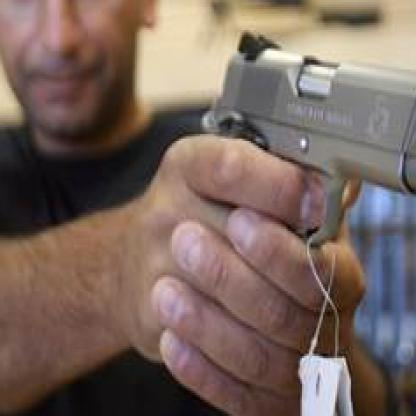gun: (192, 28, 414, 254)
